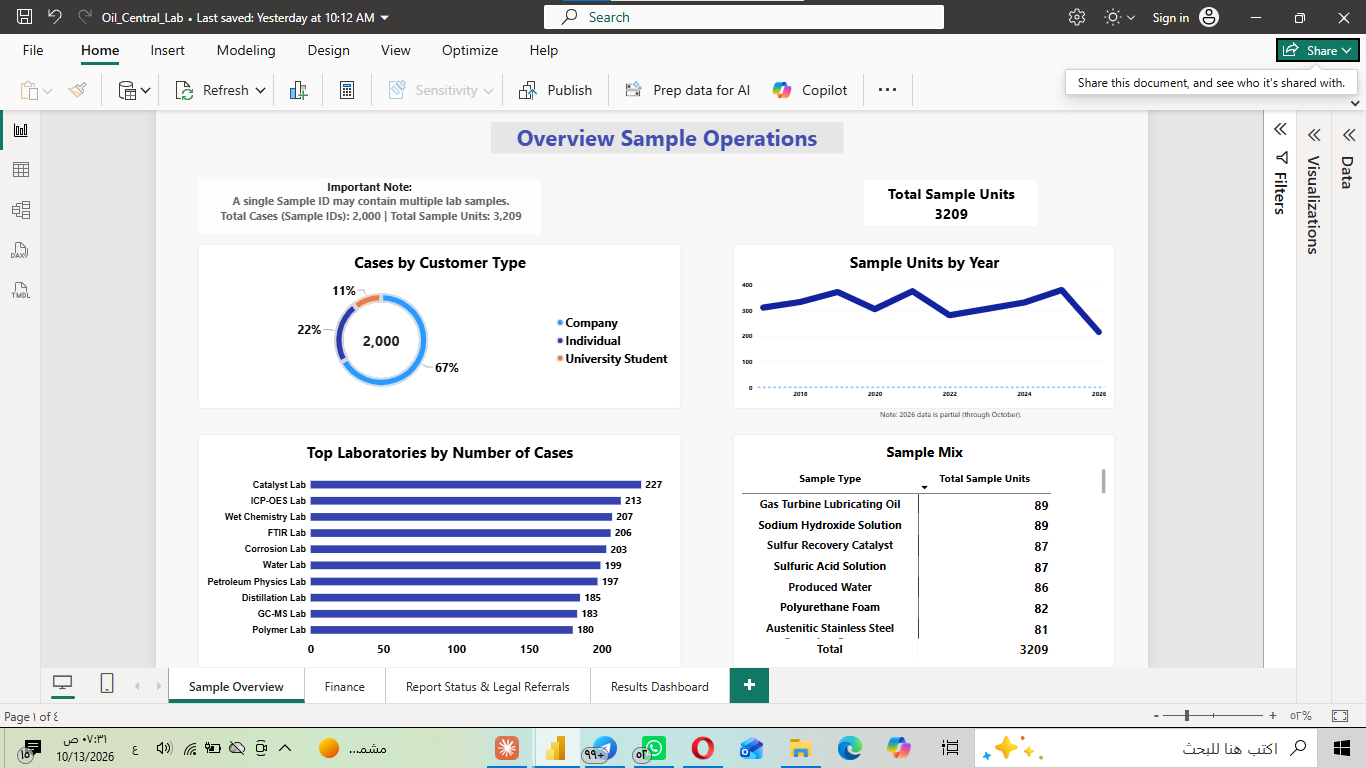

The dashboard page shown, as its layout file describes it:
{"tool":"powerbi","page":{"name":"Sample Overview","canvas":[1920,1080],"ordinal":0},"visuals":[{"type":"donutChart","title":"Cases by Customer Type","fields":{"Category":["public samples.customer_type"],"Y":["CountNonNull(public samples.sample_id)"]},"box":[81.3,259.4,935.4,318.9],"z":0},{"type":"textbox","box":[10,833.5,280,246.5],"z":1000},{"type":"clusteredBarChart","title":"Top Laboratories by Number of Cases","fields":{"Category":["public samples.Lab_Short_Name"],"Y":["public samples.Total Samples 1"]},"box":[81.3,627.1,934.8,452.9],"z":2000},{"type":"lineChart","title":"Sample Units by Year","fields":{"Category":["public samples.received_date.Variation.Date Hierarchy.Year"],"Y":["public samples.Overview Measure"]},"box":[1116.8,259.4,739.4,319.4],"z":3000},{"type":"textbox","box":[648.7,24,681.5,61.2],"z":4000},{"type":"pivotTable","title":"Sample Mix","fields":{"Rows":["public samples.sample_type"],"Values":["public samples.Total Samples"]},"box":[1116.8,627.1,739.4,452.9],"z":5000},{"type":"textbox","box":[81.3,133.5,663.9,108.4],"z":6000},{"type":"cardVisual","fields":{"Data":["public samples.Total Samples"]},"box":[1368.8,134.2,340.6,92.9],"z":7000},{"type":"textbox","box":[1347.1,578.7,340.6,32.9],"z":8000}]}

Visuals, with their boxes on the page's 1920x1080 design canvas (x1, y1, x2, y2). These are canvas units, not pixel positions in the 1366x768 screenshot, which may show the page scaled, cropped or inside an application window:
"Cases by Customer Type" donutChart: [81, 259, 1017, 578]
textbox: [10, 834, 290, 1080]
"Top Laboratories by Number of Cases" clusteredBarChart: [81, 627, 1016, 1080]
"Sample Units by Year" lineChart: [1117, 259, 1856, 579]
textbox: [649, 24, 1330, 85]
"Sample Mix" pivotTable: [1117, 627, 1856, 1080]
textbox: [81, 134, 745, 242]
cardVisual - public samples.Total Samples: [1369, 134, 1709, 227]
textbox: [1347, 579, 1688, 612]
